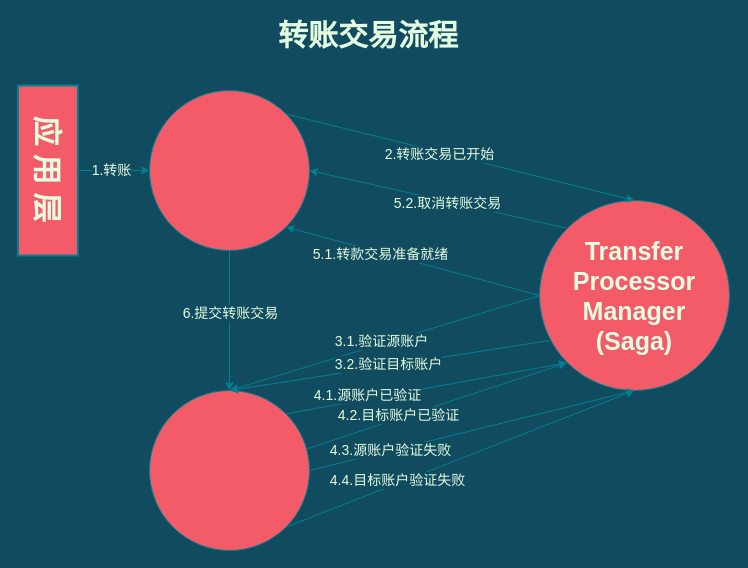
Image size: 748x568. Some labels were removed from this diagram. The centre of each missing label's shape, as x and y in pixels:
Bank Account (Aggregate Root): (229,470)
Transfer Transaction (Aggregate Root): (229,170)
